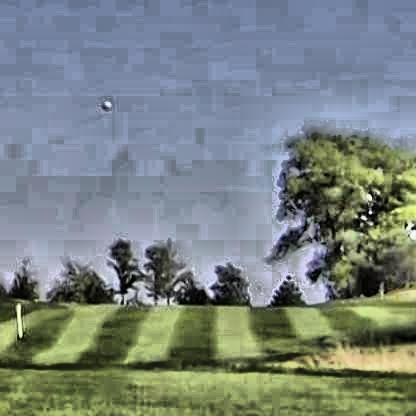golfball: (99, 98, 109, 106)
